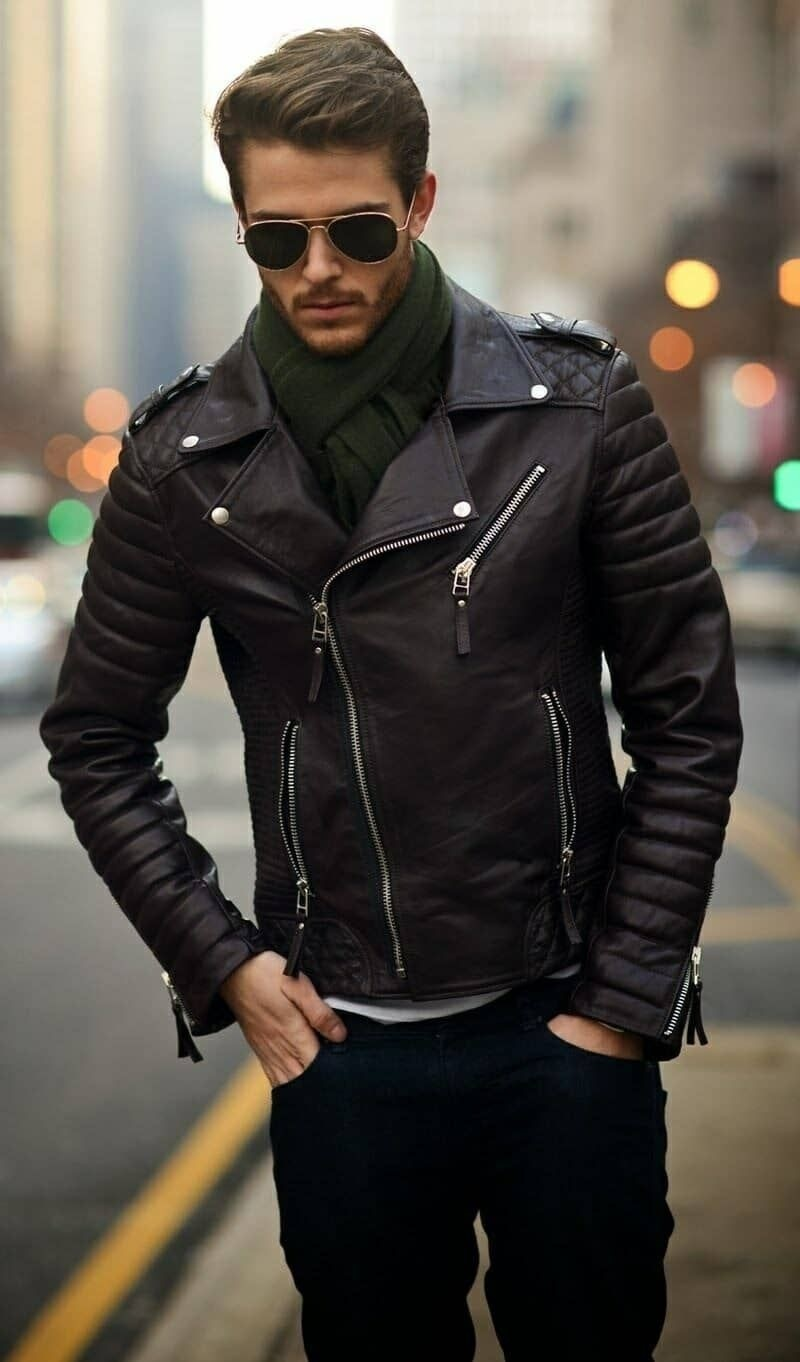face_no_mask: (214, 69, 439, 352)
